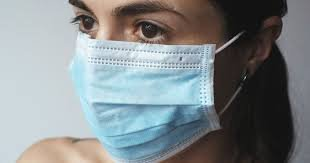mask: (27, 1, 242, 163)
